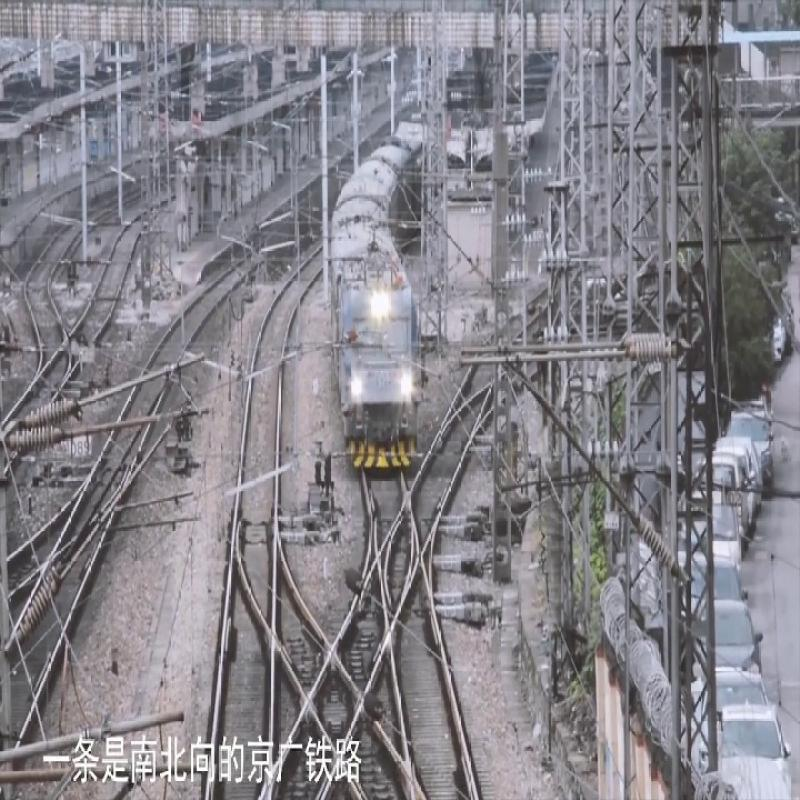train: (335, 248, 437, 472)
